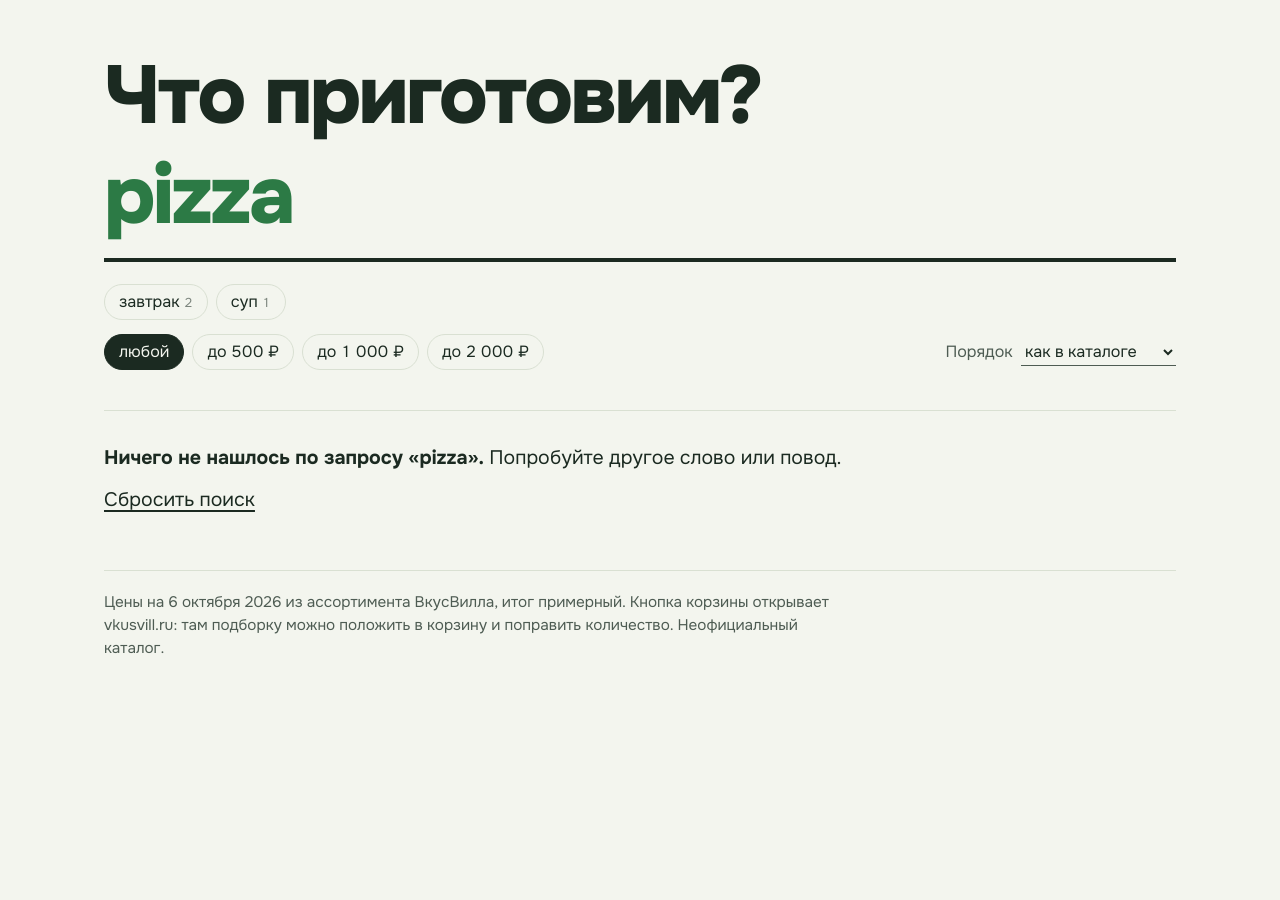
App › offers to reset filters when nothing is found
Expected: the text "Ничего не нашлось по запросу «pizza»." is shown, x1=104 y1=445 x2=484 y2=470
What coordinates should you click on to do the following:
click the button "Сбросить поиск"
I would click on:
 (180, 499)
Its box is x1=104 y1=485 x2=255 y2=514.
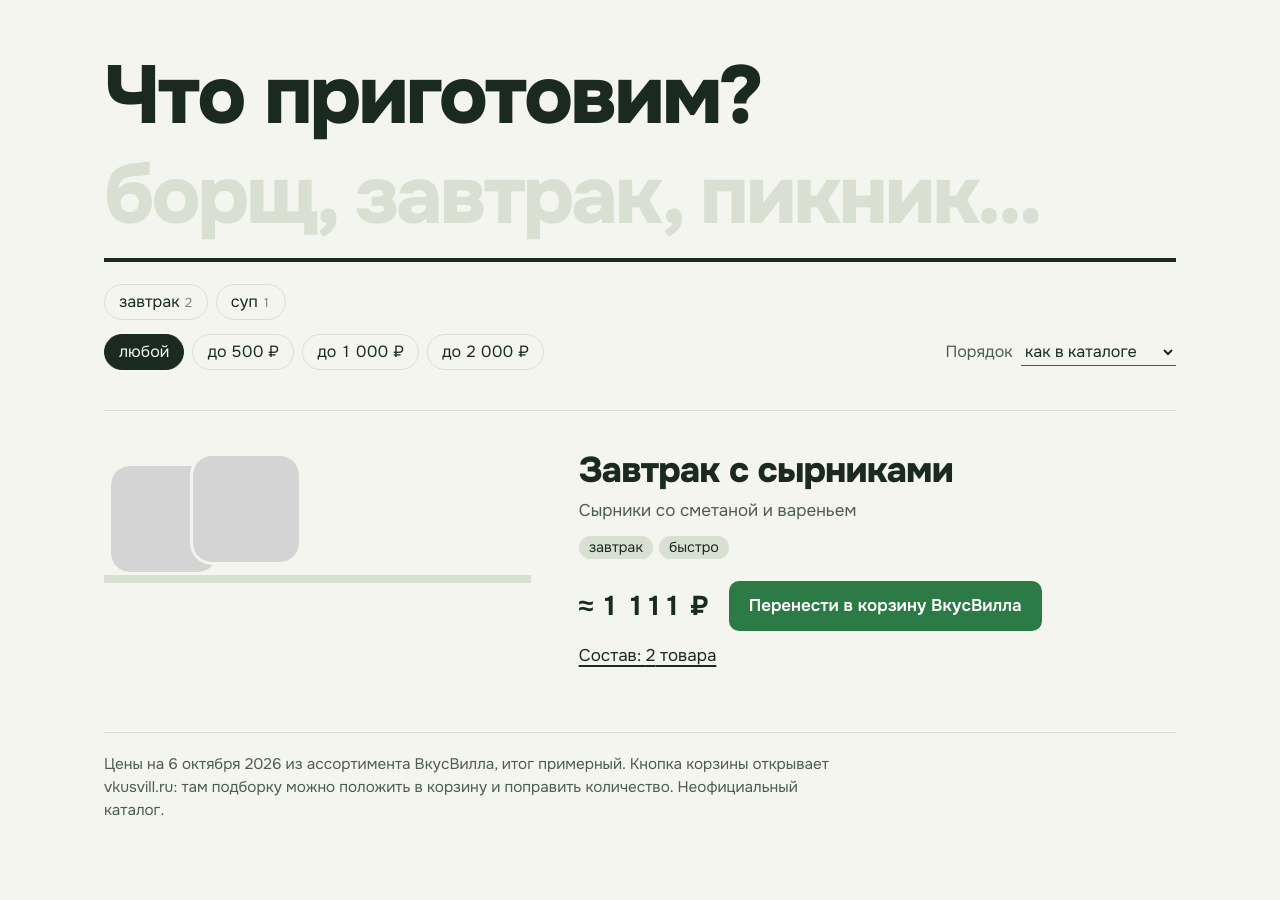
Now the element "Завтрак с сырниками" is shown, box x1=104 y1=410 x2=1176 y2=708
